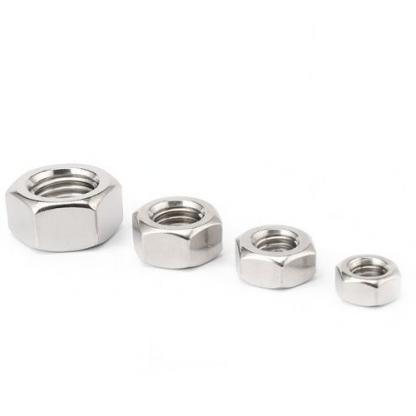FOD: (7, 160, 123, 258), (127, 194, 226, 272), (233, 222, 320, 292), (336, 252, 404, 310)
